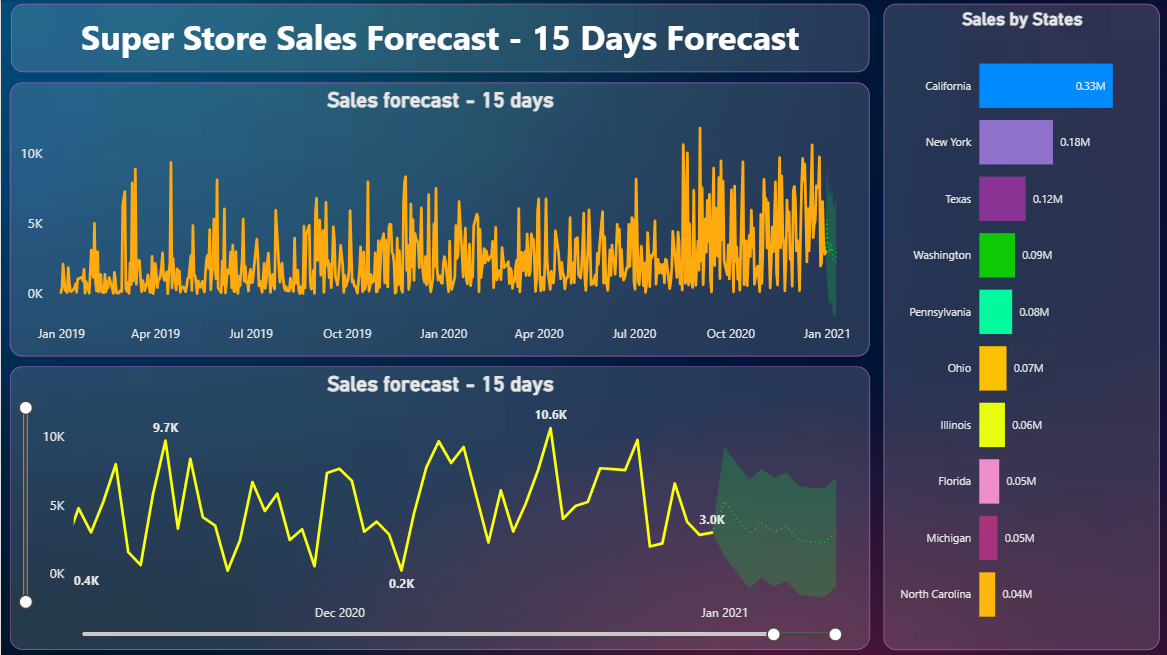

The dashboard page shown, as its layout file describes it:
{"tool":"powerbi","page":{"name":"Sales Forecast","canvas":[1280,720],"ordinal":1},"visuals":[{"type":"lineChart","title":"Sales forecast - 15 days","fields":{"Y":["Sum(SuperStore_Sales_Dataset.Sales)"],"Category":["SuperStore_Sales_Dataset.Order Date"]},"box":[9.6,90.6,944.1,300.5],"z":0},{"type":"lineChart","title":"Sales forecast - 15 days","fields":{"Y":["Sum(SuperStore_Sales_Dataset.Sales)"],"Category":["SuperStore_Sales_Dataset.Order Date"]},"box":[9.6,402.1,944.1,311.5],"z":1000},{"type":"clusteredBarChart","title":"Sales by States","fields":{"Category":["SuperStore_Sales_Dataset.State","SuperStore_Sales_Dataset.Category"],"Y":["Sum(SuperStore_Sales_Dataset.Sales)"]},"box":[968.8,4.1,303.3,709.4],"z":2000},{"type":"textbox","box":[11,4.1,942.7,75.5],"z":3000}]}

Visuals, with their boxes in screenshot pixels (x1, y1, x2, y2), scaled from the page's 1280x720 canvas onto the 1167x655 screenshot:
"Sales forecast - 15 days" lineChart: x1=9, y1=82, x2=870, y2=356
"Sales forecast - 15 days" lineChart: x1=9, y1=366, x2=870, y2=649
"Sales by States" clusteredBarChart: x1=883, y1=4, x2=1160, y2=649
textbox: x1=10, y1=4, x2=870, y2=72
